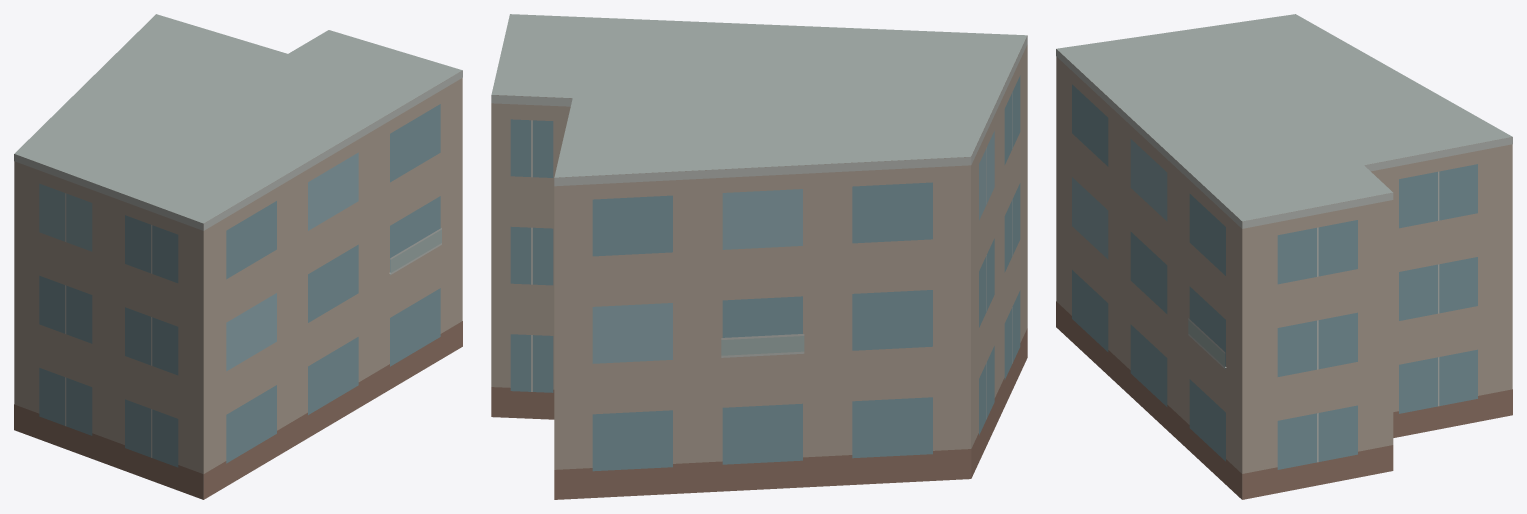
File: residential-00ae72c8-3553-4949-9885-dd516dbc871d.glb
3 views of the same model, side by side, from view 1: azimuth 30°, elevation 25°; view 2: azimuth 150°, elevation 25°; view 3: azimuth 270°, elevation 25° (orthographic). The views are drawn at different scales.
Parts seen in each view (by area): view 1: residential-00ae72c8-3553-4949-9885-dd516dbc871d.tmp; view 2: residential-00ae72c8-3553-4949-9885-dd516dbc871d.tmp; view 3: residential-00ae72c8-3553-4949-9885-dd516dbc871d.tmp.
Part boxes in pixels (left/top/right/bottom): residential-00ae72c8-3553-4949-9885-dd516dbc871d.tmp: left=14, top=14, right=462, bottom=499; residential-00ae72c8-3553-4949-9885-dd516dbc871d.tmp: left=491, top=14, right=1027, bottom=499; residential-00ae72c8-3553-4949-9885-dd516dbc871d.tmp: left=1056, top=14, right=1512, bottom=499.
Bounding box in the file's own units: 14.64 × 9.15 × 13.61.
